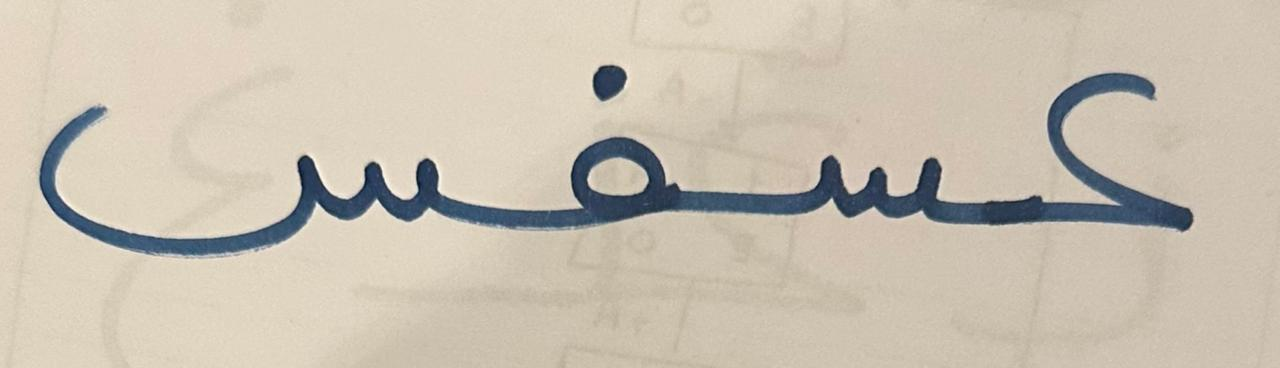ain: (1009, 13, 1227, 307)
feh: (457, 29, 733, 279)
sheen: (22, 38, 452, 290), (737, 39, 1004, 309)
